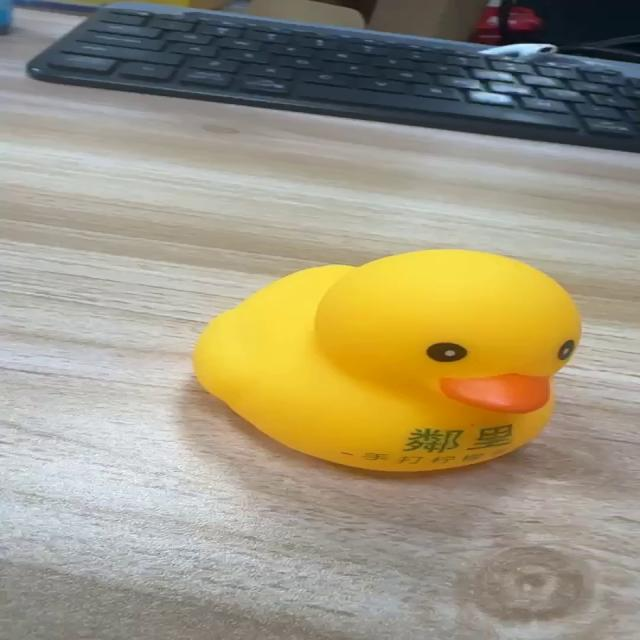yellow_duck: (190, 247, 583, 473)
